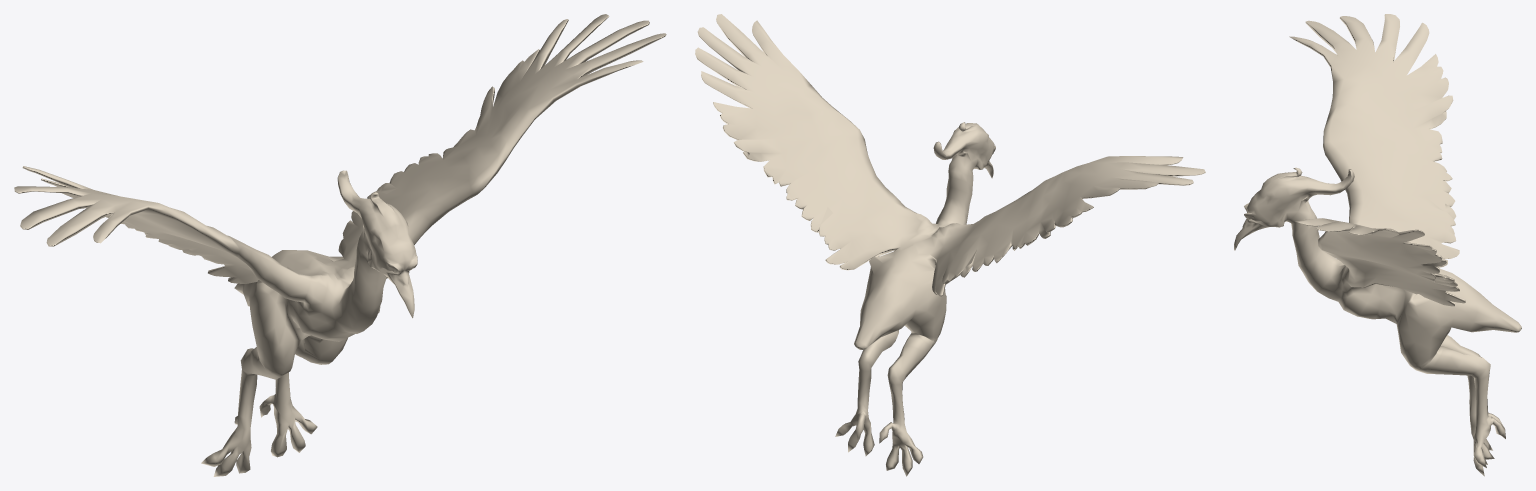
The model's file is body-restlessarmy.glb.
The picture shows the model from 3 angles, left to right: view 1: azimuth 30°, elevation 25°; view 2: azimuth 150°, elevation 25°; view 3: azimuth 270°, elevation 25°; orthographic projection. The views are drawn at different scales.
Size of the model in its own units: 6.2 by 4.08 by 2.92.
